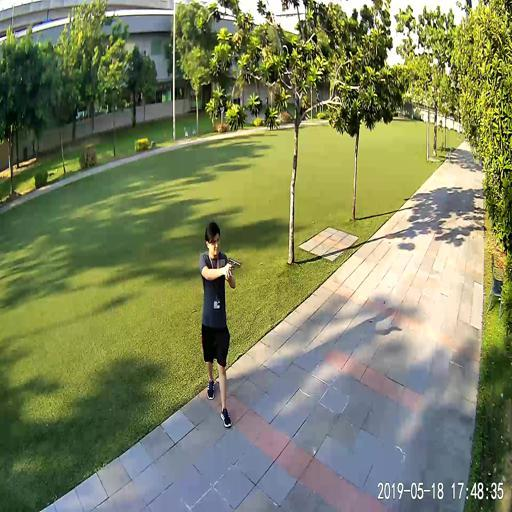Handgun: (226, 255, 240, 269)
